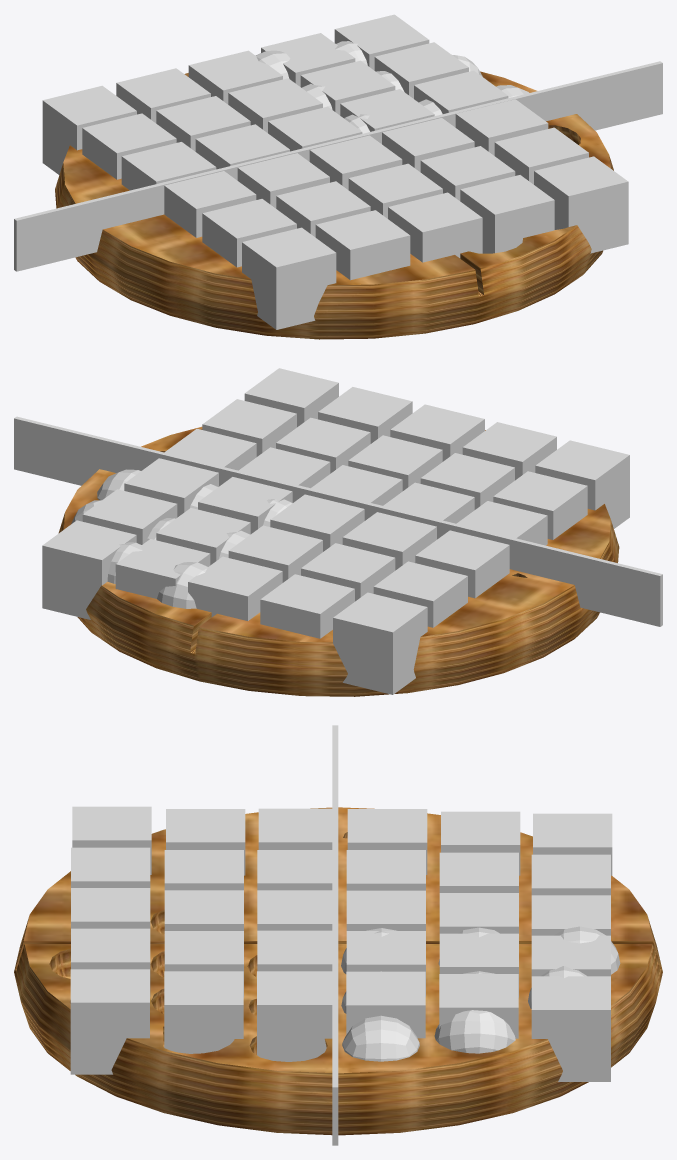
File: Waffle.fbx
3 renders of one model, top to bottom at view 1: azimuth 30°, elevation 25°; view 2: azimuth 150°, elevation 25°; view 3: azimuth 270°, elevation 25°, orthographic. The views are drawn at different scales.
Parts seen in each view (by area): view 1: Cube.006, Cylinder, Cube, Cube.009; view 2: Cube.006, Cylinder, Cube, Cube.009; view 3: Cube.006, Cylinder, Cube.009, Cube.
Part boxes in pixels (bbox=[...]): Cube.006: bbox=[42, 14, 628, 329]; Cylinder: bbox=[55, 71, 613, 339]; Cube: bbox=[14, 61, 662, 271]; Cube.009: bbox=[255, 41, 528, 133]; Cube.006: bbox=[42, 368, 629, 694]; Cylinder: bbox=[58, 426, 619, 696]; Cube: bbox=[14, 416, 662, 626]; Cube.009: bbox=[71, 469, 292, 608]; Cube.006: bbox=[70, 806, 612, 1081]; Cylinder: bbox=[14, 807, 662, 1135]; Cube.009: bbox=[341, 926, 620, 1061]; Cube: bbox=[332, 725, 338, 1145].
Size of the model in its own units: 298 by 37.36 by 225.
1 material, 1 textured.
